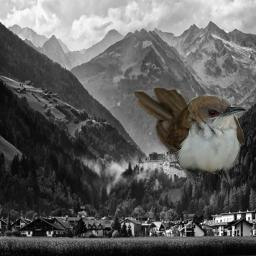Cuckoo: (133, 86, 248, 188)
